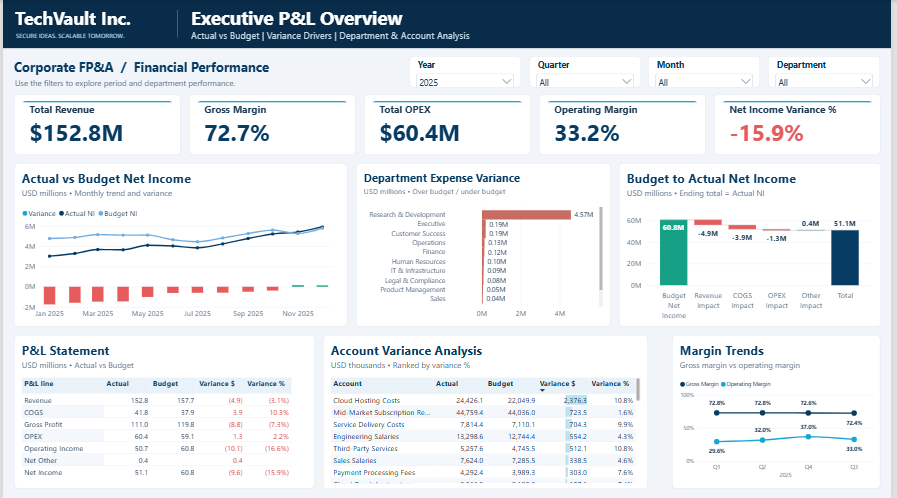

This screenshot's page, from the dashboard's own definition file:
{"tool":"powerbi","page":{"name":"P&L Overview","canvas":[1920,1080],"ordinal":0},"visuals":[{"type":"slicer","fields":{"Values":["dim_date.month_name"]},"box":[1394,122,242,68],"z":0},{"type":"shape","box":[0,0,1920,104],"z":1000},{"type":"slicer","fields":{"Values":["dim_date.year"]},"box":[878,122,242,68],"z":2000},{"type":"slicer","fields":{"Values":["dim_department.department_name"]},"box":[1652,122,242,68],"z":3000},{"type":"slicer","fields":{"Values":["dim_date.quarter"]},"box":[1136,122,242,68],"z":4000},{"type":"cardVisual","fields":{"Data":["_measures.Total Revenue"]},"box":[24,202,360,132],"z":5000},{"type":"cardVisual","fields":{"Data":["_measures.Gross Margin"]},"box":[402,202,360,132],"z":6000},{"type":"cardVisual","fields":{"Data":["_measures.Total OPEX"]},"box":[780,202,360,132],"z":7000},{"type":"cardVisual","fields":{"Data":["_measures.operating Margin"]},"box":[1158,202,360,132],"z":8000},{"type":"cardVisual","fields":{"Data":["_measures.Net Income Variance %"]},"box":[1536,202,360,132],"z":9000},{"type":"lineClusteredColumnComboChart","title":"Actual vs Budget Net Income","fields":{"Category":["dim_date.first_day_of_month"],"Y":["_measures.Net Income Variance $"],"Y2":["_measures.Net Income","_measures.Budget Net Income"]},"box":[24,352,720,354],"z":10000},{"type":"barChart","title":"Department Expense Variance","fields":{"Category":["dim_department.department_name"],"Y":["_measures.Department Expense Variance $"]},"box":[762,352,550,354],"z":11000},{"type":"waterfallChart","title":"Budget to Actual Net Income","fields":{"Category":["P&L Bridge.Stage"],"Y":["_measures.P&L Bridge Amount"]},"box":[1330,352,566,354],"z":12000},{"type":"pivotTable","title":"P&L Statement","fields":{"Rows":["P&L Rows.Line"],"Values":["_measures.P&L Actual $","_measures.P&L Budget $","_measures.P&L Variance $","_measures.P&L Variance %"]},"box":[24,724,650,332],"z":13000},{"type":"pivotTable","title":"Account Variance Analysis","fields":{"Rows":["dim_account.account_name"],"Values":["_measures.actual amount","_measures.Budget Amount","_measures.Account Variance $","_measures.Account Variance %"]},"box":[691.7,723.3,701.7,333.3],"z":14000},{"type":"lineChart","title":"Margin Trends","fields":{"Category":["dim_date.year","dim_date.quarter"],"Y":["_measures.Gross Margin","_measures.operating Margin"]},"box":[1446,724,450,332],"z":15000},{"type":"shape","box":[376,22,2,60],"z":16000},{"type":"textbox","box":[407,62,1320,40],"z":17000},{"type":"textbox","box":[405,10,1140,68],"z":18000},{"type":"textbox","box":[26,166,780,26],"z":19000},{"type":"textbox","box":[24,125,800,38],"z":20000},{"type":"textbox","box":[26,12,335,67],"z":21000},{"type":"textbox","box":[28,66,330,33],"z":22000}]}

Visuals, with their boxes in screenshot pixels (x1, y1, x2, y2), scaled from the page's 1920x1080 canvas onto the 897x498 screenshot:
slicer - dim_date.month_name: (left=651, top=56, right=764, bottom=88)
shape: (left=0, top=0, right=896, bottom=48)
slicer - dim_date.year: (left=410, top=56, right=523, bottom=88)
slicer - dim_department.department_name: (left=772, top=56, right=885, bottom=88)
slicer - dim_date.quarter: (left=531, top=56, right=644, bottom=88)
cardVisual - _measures.Total Revenue: (left=11, top=93, right=179, bottom=154)
cardVisual - _measures.Gross Margin: (left=188, top=93, right=356, bottom=154)
cardVisual - _measures.Total OPEX: (left=364, top=93, right=533, bottom=154)
cardVisual - _measures.operating Margin: (left=541, top=93, right=709, bottom=154)
cardVisual - _measures.Net Income Variance %: (left=718, top=93, right=886, bottom=154)
"Actual vs Budget Net Income" lineClusteredColumnComboChart: (left=11, top=162, right=348, bottom=326)
"Department Expense Variance" barChart: (left=356, top=162, right=613, bottom=326)
"Budget to Actual Net Income" waterfallChart: (left=621, top=162, right=886, bottom=326)
"P&L Statement" pivotTable: (left=11, top=334, right=315, bottom=487)
"Account Variance Analysis" pivotTable: (left=323, top=334, right=651, bottom=487)
"Margin Trends" lineChart: (left=676, top=334, right=886, bottom=487)
shape: (left=176, top=10, right=177, bottom=38)
textbox: (left=190, top=29, right=807, bottom=47)
textbox: (left=189, top=5, right=722, bottom=36)
textbox: (left=12, top=77, right=377, bottom=89)
textbox: (left=11, top=58, right=385, bottom=75)
textbox: (left=12, top=6, right=169, bottom=36)
textbox: (left=13, top=30, right=167, bottom=46)
